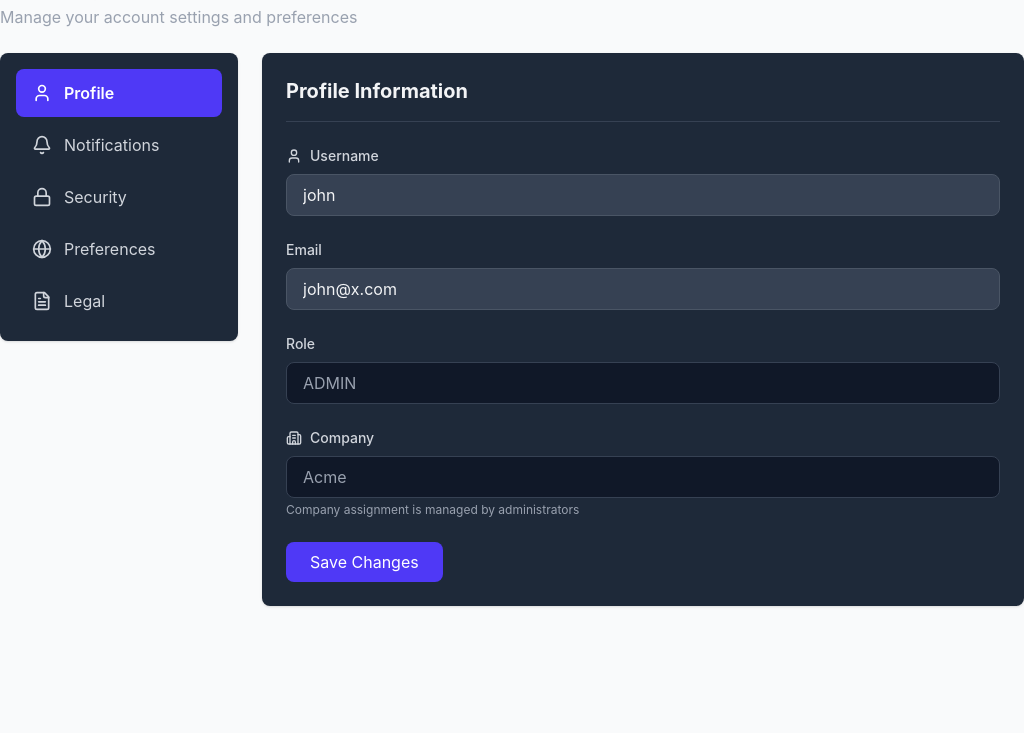
SettingsPage dedicated › shows last-admin guard and disables delete action
Click the button "Security" at (119, 197), box [16,173,222,221]
(page scrolled)
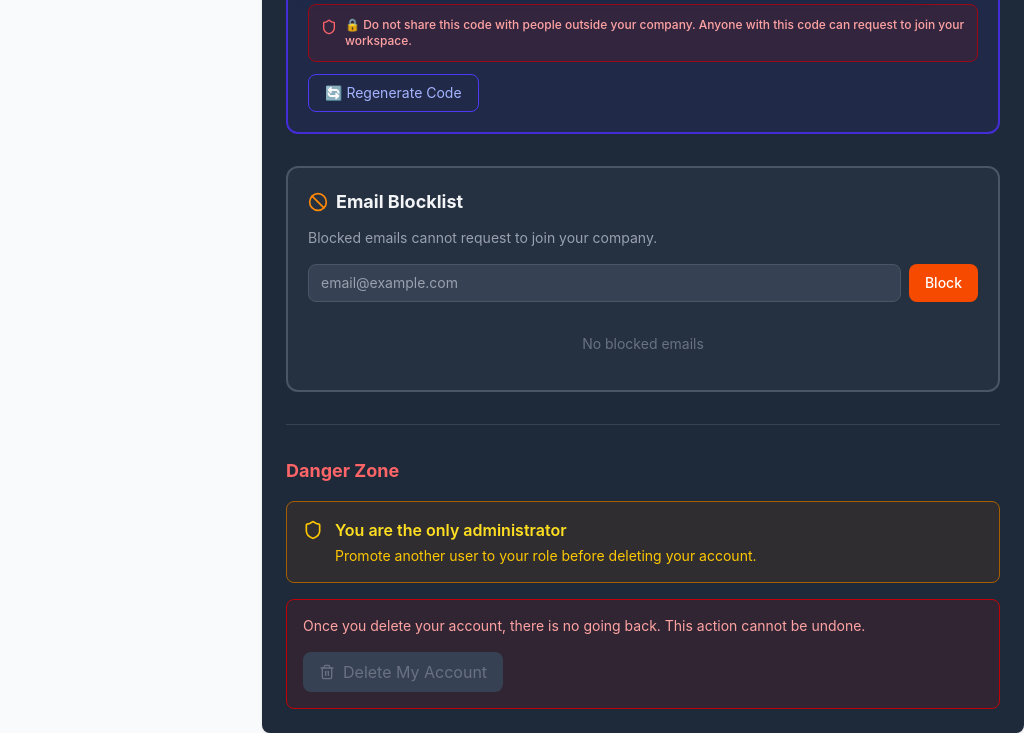
Check: the text "You are the only administrator" is shown, box [335,520,566,540]
Check: the button "Delete My Account" is disabled, box [303,652,503,692]
